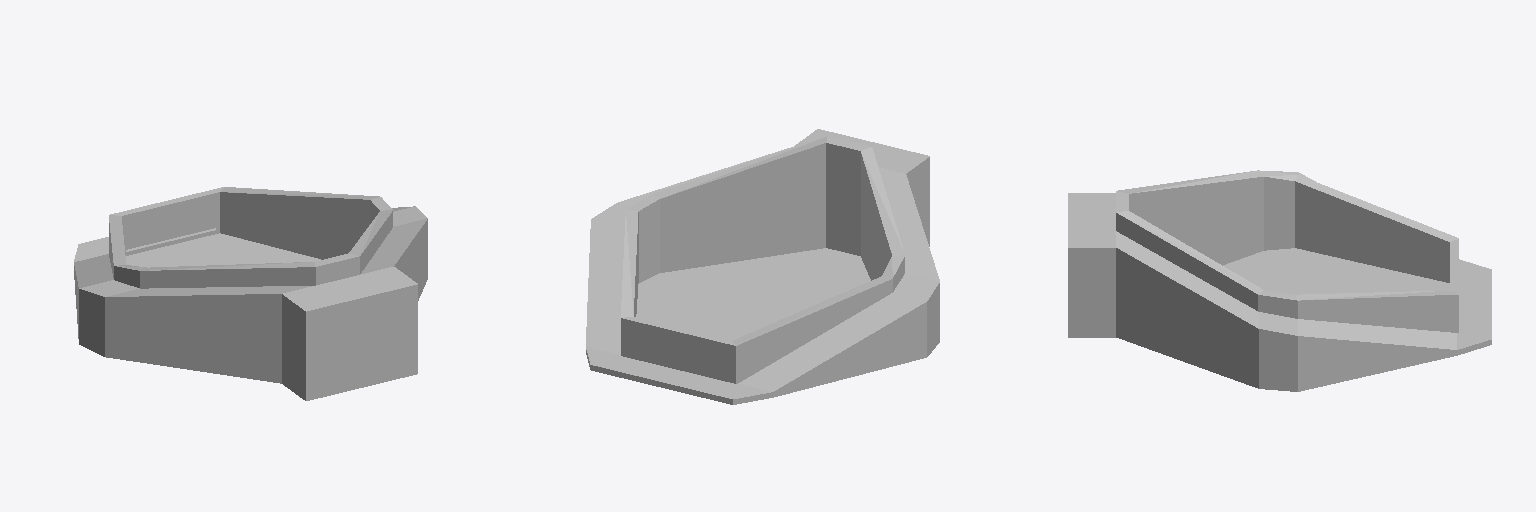
File: sea_Lion_Enclsoure_Cage.obj
The picture shows the model from 3 angles: view 1: azimuth 30°, elevation 25°; view 2: azimuth 150°, elevation 25°; view 3: azimuth 270°, elevation 25°; orthographic projection.
Visible parts, largest first — view 1: Walkway_Cube, Sea_Lion_Encounter_Cylinder, Glass_Cube.001; view 2: Sea_Lion_Encounter_Cylinder, Walkway_Cube; view 3: Sea_Lion_Encounter_Cylinder, Walkway_Cube.
Boxes of the visible parts, x1,y1,x2,y2 form: Walkway_Cube: [74, 206, 427, 400]; Sea_Lion_Encounter_Cylinder: [109, 187, 392, 288]; Glass_Cube.001: [126, 197, 215, 249]; Sea_Lion_Encounter_Cylinder: [621, 136, 904, 383]; Walkway_Cube: [586, 129, 939, 404]; Sea_Lion_Encounter_Cylinder: [1116, 170, 1458, 332]; Walkway_Cube: [1068, 171, 1491, 391].
Bounding box in the file's own units: 380 × 117 × 415.